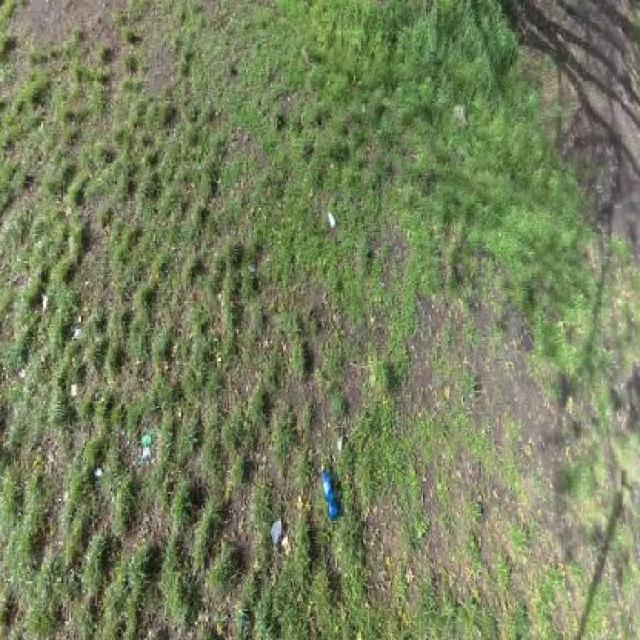Garbage: (321, 463, 337, 520), (271, 517, 283, 550), (328, 212, 337, 231)
